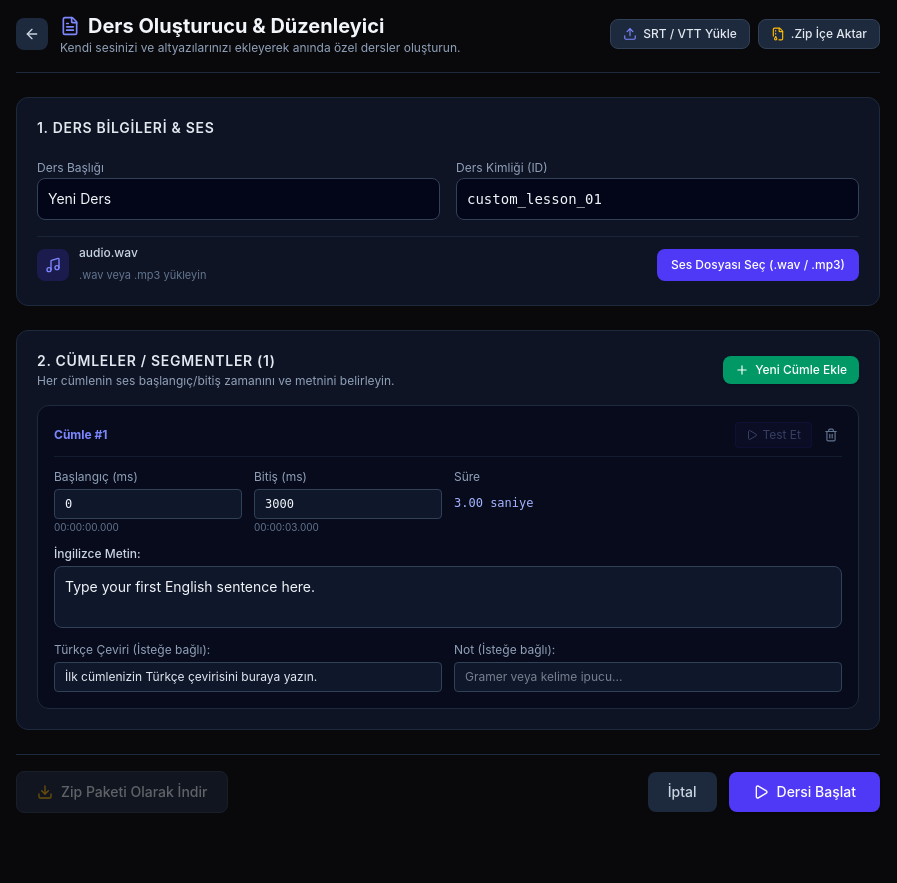
Test: LessonEditorView Component (F4.3) › allows adding and removing segments
Click the button "Yeni Cümle Ekle".
click(791, 370)  # box x1=723 y1=356 x2=859 y2=384
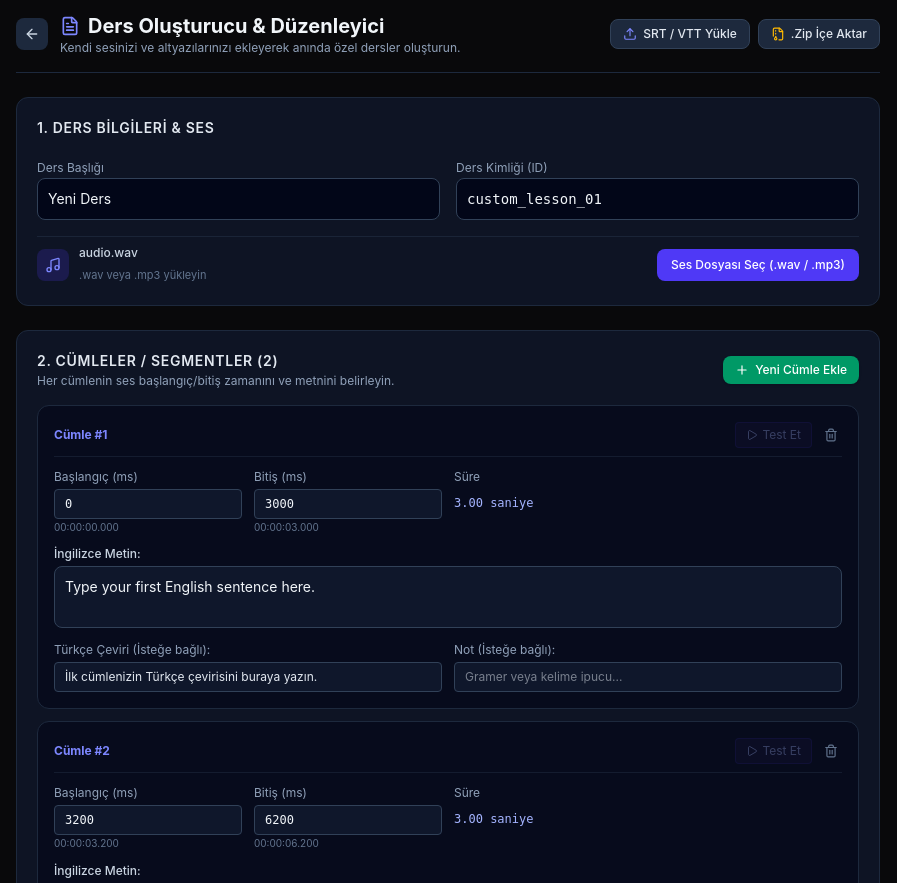
Now the text "Cümle #2" is shown, box x1=54 y1=743 x2=110 y2=759
Now the number of buttons titled "Cümleyi Sil" is 2
Click the 2nd button titled "Cümleyi Sil".
click(831, 751)  # box x1=820 y1=740 x2=842 y2=762
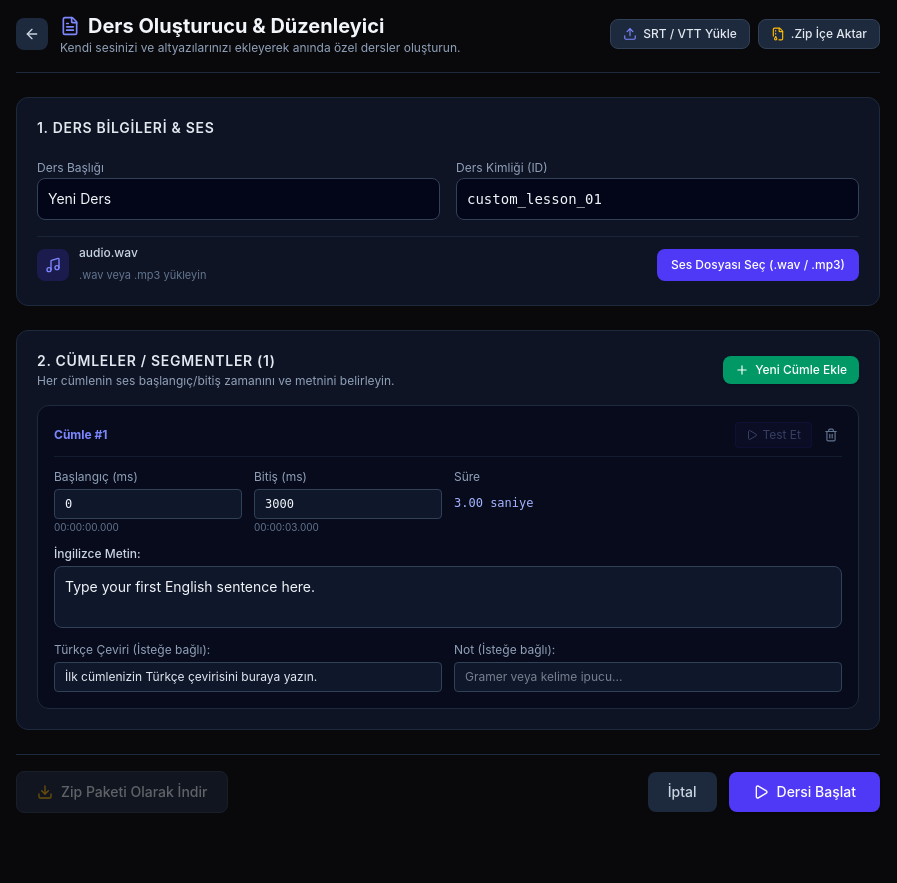
Now the text "Cümle #2" is gone
